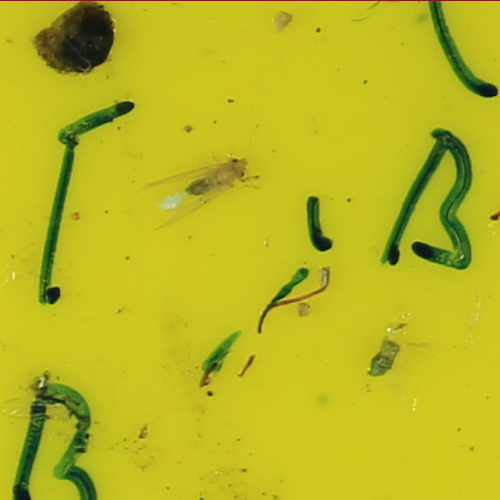Glycaspis: (187, 156, 248, 199)
